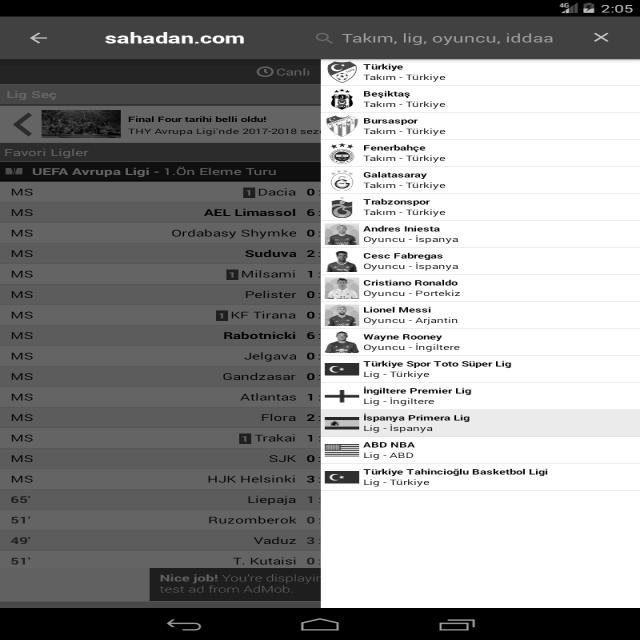EditText: (306, 27, 563, 49)
ImageButton: (22, 28, 52, 48), (589, 26, 617, 46)
ImageView: (320, 58, 358, 490), (42, 107, 120, 137)
TextView: (365, 61, 435, 489), (4, 183, 34, 562), (244, 472, 318, 566), (154, 571, 312, 597), (126, 112, 274, 135), (99, 27, 251, 49)
